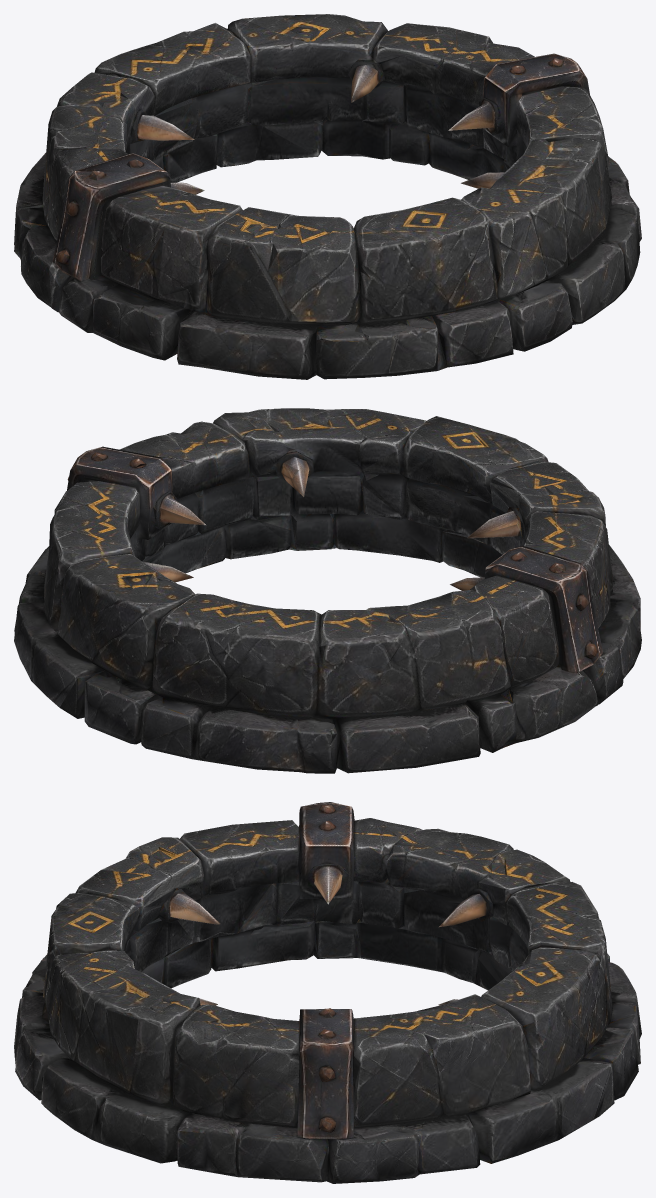
File: pit-1.glb
3 views of the same model, one above another, from view 1: azimuth 30°, elevation 25°; view 2: azimuth 150°, elevation 25°; view 3: azimuth 270°, elevation 25° (orthographic).
Size of the model in its own units: 2 by 0.4766 by 1.99.
Materials: 1 (1 with a texture image).
